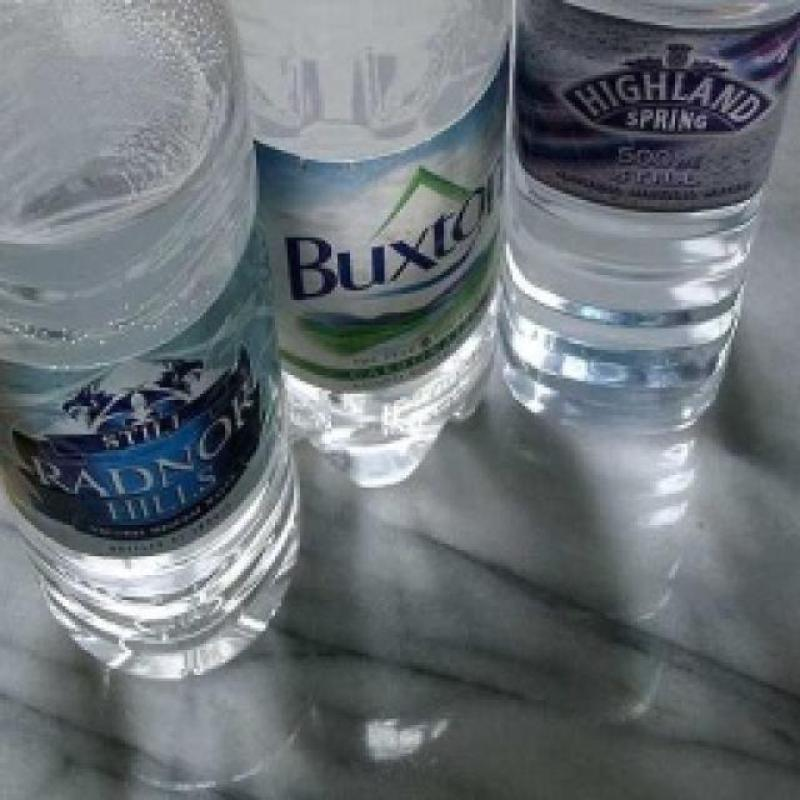botella: (0, 0, 300, 681), (233, 0, 508, 494), (512, 0, 800, 425)
